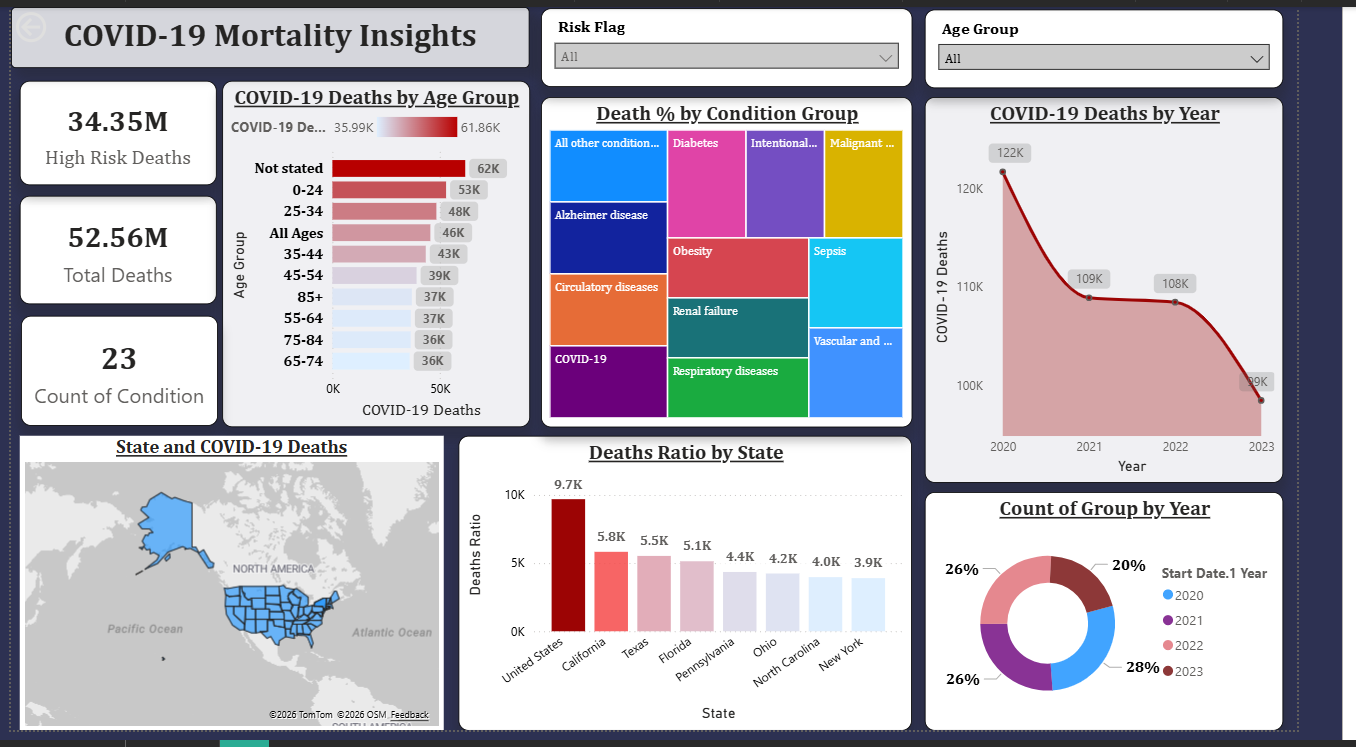

Layout of this report page (visuals, bound fields, positions):
{"tool":"powerbi","page":{"name":"Page 1","canvas":[1280,720],"ordinal":0},"visuals":[{"type":"card","fields":{"Values":["Sum(Data (3).Total Deaths)"]},"box":[8.1,187.8,195.9,108.1],"z":0},{"type":"card","fields":{"Values":["Data.High Risk Deaths"]},"box":[8.1,73,195.9,104.1],"z":1000},{"type":"actionButton","box":[0,0,100,40],"z":2000},{"type":"barChart","fields":{"Category":["Data.Age Group"],"Y":["CountNonNull(Data.COVID-19 Deaths)"]},"box":[210.2,73.4,306,344.6],"z":3000},{"type":"lineChart","fields":{"Category":["Data.End Date.1.Variation.Date Hierarchy.Year","Data.End Date.1.Variation.Date Hierarchy.Quarter","Data.End Date.1.Variation.Date Hierarchy.Month","Data.End Date.1.Variation.Date Hierarchy.Day"],"Y":["CountNonNull(Data.COVID-19 Deaths)"]},"box":[909.3,89.6,357,384.4],"z":4000},{"type":"donutChart","fields":{"Y":["CountNonNull(Data.Group)"],"Category":["Data.Start Date.1.Variation.Date Hierarchy.Year","Data.Start Date.1.Variation.Date Hierarchy.Quarter","Data.Start Date.1.Variation.Date Hierarchy.Month","Data.Start Date.1.Variation.Date Hierarchy.Day"]},"box":[909.3,482.7,357,237.6],"z":5000},{"type":"slicer","fields":{"Values":["Data.Age Group"]},"box":[909.3,2.5,357,78.4],"z":6000},{"type":"textbox","box":[0,0,516.2,61],"z":7000},{"type":"lineStackedColumnComboChart","fields":{"Y":["CountNonNull(Data.Deaths Ratio)"],"Category":["Data.State"]},"box":[445.3,426.7,451.6,293.6],"z":8000},{"type":"treemap","fields":{"Values":["Data.Death %"],"Group":["Data.Condition Group"]},"box":[527.4,89.6,369.5,328.4],"z":9000},{"type":"slicer","fields":{"Values":["Data.Risk Flag"]},"box":[527.4,1.2,369.5,78.4],"z":10000},{"type":"card","fields":{"Values":["Count(Data.Condition)"]},"box":[9.5,306.8,195.9,109.5],"z":11000},{"type":"azureMap","fields":{"Category":["Data.State"],"Series":["Data.COVID-19 Deaths"]},"box":[8.7,426.7,421.7,293.6],"z":12000}]}

Visuals, with their boxes in screenshot pixels (x1, y1, x2, y2), scaled from the page's 1280x720 canvas onto the 1356x747 screenshot:
card - Sum(Data (3).Total Deaths): 9/195/216/307
card - Data.High Risk Deaths: 9/76/216/184
actionButton: 0/0/106/42
barChart - Data.Age Group x CountNonNull(Data.COVID-19 Deaths): 223/76/547/434
lineChart - Data.End Date.1.Variation.Date Hierarchy.Year x Data.End Date.1.Variation.Date Hierarchy.Quarter: 963/93/1341/492
donutChart - CountNonNull(Data.Group) x Data.Start Date.1.Variation.Date Hierarchy.Year: 963/501/1341/746
slicer - Data.Age Group: 963/3/1341/84
textbox: 0/0/547/63
lineStackedColumnComboChart - CountNonNull(Data.Deaths Ratio) x Data.State: 472/443/950/746
treemap - Data.Death % x Data.Condition Group: 559/93/950/434
slicer - Data.Risk Flag: 559/1/950/83
card - Count(Data.Condition): 10/318/218/432
azureMap - Data.State x Data.COVID-19 Deaths: 9/443/456/746
